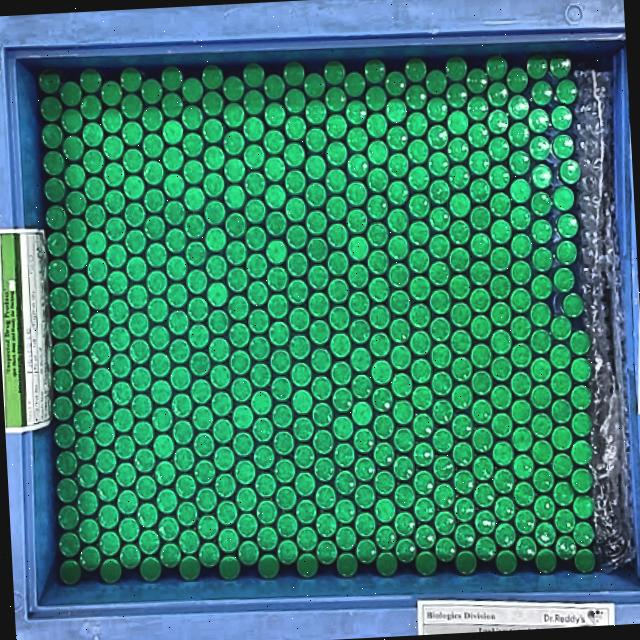vial: (119, 66, 142, 92), (258, 554, 280, 580), (58, 532, 80, 558), (496, 550, 518, 576), (558, 160, 581, 184), (101, 558, 122, 584), (376, 552, 397, 578), (241, 62, 264, 85), (37, 70, 59, 94), (184, 160, 206, 184), (98, 505, 120, 529), (140, 558, 162, 582), (59, 560, 81, 584), (456, 550, 478, 574), (531, 82, 553, 106), (58, 505, 79, 530), (334, 444, 355, 469), (405, 56, 426, 81), (42, 124, 62, 150), (288, 252, 308, 278), (72, 382, 92, 408), (218, 528, 238, 554), (174, 446, 194, 472), (57, 478, 77, 504), (160, 543, 180, 569), (355, 456, 375, 482), (354, 428, 374, 454), (336, 470, 356, 496), (472, 398, 492, 424), (388, 208, 408, 234), (409, 220, 429, 246), (40, 98, 62, 121), (296, 528, 318, 551), (364, 61, 386, 84), (530, 136, 552, 159), (284, 62, 305, 86), (185, 214, 206, 238), (84, 150, 105, 174), (235, 460, 256, 484), (277, 486, 298, 510), (515, 510, 536, 534), (532, 276, 553, 300), (470, 262, 491, 286), (532, 219, 553, 243), (286, 89, 306, 114), (305, 73, 325, 98), (207, 255, 227, 280), (178, 502, 198, 527), (194, 432, 214, 457), (255, 445, 275, 470), (276, 459, 296, 484), (139, 531, 159, 556), (572, 469, 592, 494), (429, 152, 449, 177), (450, 165, 470, 190), (554, 186, 574, 211), (508, 94, 528, 119), (366, 86, 386, 111), (189, 324, 208, 350), (375, 470, 394, 496), (356, 484, 375, 510), (80, 70, 102, 92), (270, 351, 292, 373), (351, 349, 373, 371), (327, 197, 348, 220), (43, 152, 64, 175), (371, 361, 392, 384), (349, 321, 370, 344), (204, 146, 224, 170), (204, 120, 224, 144), (223, 104, 243, 128), (244, 118, 264, 142), (284, 143, 304, 167), (265, 76, 285, 100), (328, 116, 348, 140), (123, 149, 143, 173), (48, 234, 68, 258), (288, 280, 308, 304), (310, 294, 330, 318), (308, 238, 328, 262), (229, 296, 249, 320), (148, 298, 168, 322), (89, 286, 109, 310), (48, 287, 68, 311), (90, 314, 110, 338), (110, 328, 130, 352), (290, 307, 310, 331), (76, 436, 96, 460), (96, 450, 116, 474), (197, 488, 217, 512), (299, 554, 319, 578), (220, 556, 240, 580), (200, 542, 220, 566), (158, 517, 178, 541), (78, 464, 98, 488), (56, 452, 76, 476), (274, 431, 294, 455), (80, 520, 100, 544), (476, 511, 496, 535), (496, 524, 516, 548), (436, 512, 456, 536), (314, 458, 334, 482), (396, 538, 416, 562), (376, 526, 396, 550), (576, 548, 596, 572), (394, 428, 414, 452), (492, 414, 512, 438), (392, 374, 412, 398), (369, 278, 389, 302), (387, 126, 407, 150), (409, 139, 429, 163), (471, 178, 491, 202), (532, 165, 552, 189), (428, 126, 448, 150), (488, 54, 508, 78), (558, 80, 578, 104), (488, 110, 508, 134), (468, 124, 488, 148), (329, 251, 348, 276), (119, 518, 138, 543), (573, 413, 592, 438), (552, 426, 571, 451), (515, 482, 534, 507), (468, 96, 487, 121), (54, 368, 72, 394), (356, 512, 374, 538), (228, 270, 249, 292), (172, 422, 193, 444), (434, 484, 455, 506), (574, 524, 595, 546), (535, 524, 556, 546), (389, 292, 410, 314), (558, 216, 579, 238), (557, 242, 578, 264), (551, 55, 572, 77), (554, 136, 575, 158), (81, 95, 101, 118), (328, 224, 348, 247), (307, 213, 327, 236), (286, 171, 306, 194), (244, 91, 264, 114), (328, 142, 348, 165), (306, 101, 326, 124), (326, 89, 346, 112), (62, 110, 82, 133), (144, 162, 164, 185), (164, 200, 184, 223), (125, 176, 145, 199), (64, 165, 84, 188), (105, 191, 125, 214), (126, 230, 146, 253), (46, 207, 66, 230), (106, 245, 126, 268), (190, 353, 210, 376), (210, 339, 230, 362), (230, 352, 250, 375), (332, 362, 352, 385), (252, 390, 272, 413), (192, 381, 212, 404), (253, 419, 273, 442), (50, 316, 70, 339), (111, 354, 131, 377), (195, 461, 215, 484), (181, 557, 201, 580), (314, 431, 334, 454), (394, 456, 414, 479), (538, 550, 558, 573), (396, 513, 416, 536), (416, 553, 436, 576), (534, 468, 554, 491), (454, 471, 474, 494), (373, 389, 393, 412), (451, 331, 471, 354), (391, 346, 411, 369), (564, 294, 584, 317), (348, 238, 368, 261), (430, 180, 450, 203), (532, 192, 552, 215), (470, 151, 490, 174), (552, 107, 572, 130), (510, 122, 530, 145), (448, 85, 468, 108), (426, 98, 446, 121), (406, 85, 426, 108), (266, 186, 285, 210), (163, 94, 182, 118), (224, 77, 243, 101), (83, 122, 102, 146), (103, 136, 122, 160), (207, 228, 226, 252), (45, 178, 64, 202), (147, 244, 166, 268), (167, 256, 186, 280), (227, 242, 246, 266), (329, 280, 348, 304), (109, 271, 128, 295), (189, 298, 208, 322), (48, 261, 67, 285), (171, 367, 190, 391), (212, 392, 231, 416), (172, 395, 191, 419), (119, 490, 138, 514), (256, 473, 275, 497), (297, 500, 316, 524), (121, 544, 140, 568), (101, 532, 120, 556), (556, 538, 575, 562), (553, 454, 572, 478), (390, 319, 409, 343), (353, 375, 372, 399), (389, 262, 408, 286), (367, 196, 386, 220), (430, 234, 449, 258), (492, 220, 511, 244), (348, 128, 367, 152), (449, 138, 468, 162), (427, 70, 446, 94), (489, 137, 508, 161), (510, 150, 529, 174), (272, 376, 290, 401), (240, 540, 258, 565), (180, 529, 198, 554), (79, 492, 97, 517), (472, 429, 493, 450), (471, 317, 492, 338), (408, 196, 429, 217), (162, 68, 184, 88), (122, 122, 142, 144), (246, 200, 266, 222), (286, 200, 306, 222), (184, 108, 204, 130), (286, 117, 306, 139), (306, 129, 326, 151), (63, 138, 83, 160), (166, 230, 186, 252), (330, 308, 350, 330), (308, 266, 328, 288), (208, 284, 228, 306), (150, 354, 170, 376), (230, 324, 250, 346), (270, 324, 290, 346), (310, 322, 330, 344), (232, 406, 252, 428), (70, 328, 90, 350), (130, 368, 150, 390), (152, 382, 172, 404), (194, 407, 214, 429), (52, 344, 72, 366), (54, 398, 74, 420), (94, 424, 114, 446), (54, 426, 74, 448), (116, 464, 136, 486), (176, 474, 196, 496), (258, 528, 278, 550), (198, 516, 218, 538), (138, 504, 158, 526), (216, 474, 236, 496), (257, 502, 277, 524), (80, 548, 100, 570), (414, 471, 434, 493), (516, 537, 536, 559), (456, 524, 476, 546), (356, 541, 376, 563), (555, 512, 575, 534), (574, 497, 594, 519), (552, 400, 572, 422), (512, 428, 532, 450), (494, 498, 514, 520), (473, 458, 493, 480), (453, 415, 473, 437), (434, 458, 454, 480), (571, 359, 591, 381), (492, 332, 512, 354), (471, 346, 491, 368), (491, 386, 511, 408), (411, 332, 431, 354), (570, 332, 590, 354), (470, 290, 490, 312), (410, 278, 430, 300), (370, 307, 390, 329), (512, 264, 532, 286), (368, 170, 388, 192), (430, 208, 450, 230), (512, 236, 532, 258), (367, 114, 387, 136), (511, 180, 531, 202), (408, 114, 428, 136), (447, 58, 467, 80), (508, 69, 528, 91), (530, 110, 550, 132), (245, 145, 264, 168), (165, 175, 184, 198), (227, 215, 246, 238), (247, 227, 266, 250), (145, 189, 164, 212), (105, 164, 124, 187), (86, 204, 105, 227), (87, 230, 106, 253), (67, 219, 86, 242), (171, 339, 190, 362), (293, 391, 312, 414), (313, 403, 332, 426), (115, 436, 134, 459), (137, 476, 156, 499), (296, 473, 315, 496), (374, 444, 393, 467), (476, 538, 495, 561), (436, 538, 455, 561), (412, 359, 431, 382), (347, 182, 366, 205), (472, 234, 491, 257), (409, 167, 428, 190), (450, 195, 469, 218), (491, 192, 510, 215), (386, 72, 405, 95), (388, 99, 407, 122), (265, 158, 283, 182), (307, 183, 325, 207), (186, 188, 204, 212), (66, 191, 84, 215), (88, 258, 106, 282), (210, 310, 228, 334), (170, 312, 188, 336), (110, 300, 128, 324), (270, 294, 288, 318), (154, 434, 172, 458), (98, 478, 116, 502), (278, 514, 296, 538), (396, 484, 414, 508), (376, 500, 394, 524), (416, 526, 434, 550), (339, 553, 357, 577), (536, 496, 554, 520), (512, 373, 530, 397), (371, 334, 389, 358), (492, 274, 510, 298), (346, 74, 364, 98), (184, 134, 204, 155), (162, 122, 182, 143), (142, 81, 162, 102), (186, 244, 206, 265), (187, 271, 207, 292), (273, 405, 293, 426), (312, 378, 332, 399), (414, 500, 435, 520), (572, 442, 592, 463), (492, 443, 512, 464), (413, 444, 433, 465), (352, 404, 372, 425), (412, 387, 432, 408), (452, 387, 472, 408), (531, 388, 552, 408), (550, 347, 570, 368), (410, 306, 430, 327), (368, 224, 388, 245), (408, 251, 428, 272), (450, 277, 470, 298), (164, 148, 183, 170), (288, 226, 307, 248), (246, 173, 265, 195), (225, 160, 244, 182), (122, 96, 141, 118), (102, 82, 121, 104), (307, 156, 326, 178), (327, 170, 346, 192), (265, 104, 284, 126), (86, 178, 105, 200), (70, 301, 89, 323), (331, 335, 350, 357), (333, 389, 352, 411), (334, 417, 353, 439), (72, 356, 91, 378), (132, 396, 151, 418), (94, 396, 113, 418), (135, 449, 154, 471), (157, 462, 176, 484), (214, 448, 233, 470), (318, 514, 337, 536), (533, 414, 552, 436), (514, 455, 533, 477), (414, 415, 433, 437), (451, 304, 470, 326), (472, 372, 491, 394), (511, 318, 530, 340), (555, 268, 574, 290), (430, 262, 449, 284), (431, 292, 450, 314), (369, 252, 388, 274), (350, 294, 369, 316), (534, 248, 553, 270), (389, 154, 408, 176), (471, 207, 490, 229), (491, 166, 510, 188), (346, 102, 365, 124), (488, 84, 507, 106), (449, 112, 468, 134), (126, 203, 144, 226), (69, 245, 87, 268), (148, 272, 166, 295), (248, 254, 266, 277), (168, 284, 186, 307), (70, 273, 88, 296), (93, 369, 111, 392), (114, 409, 132, 432), (238, 488, 256, 511), (534, 440, 552, 463), (512, 346, 530, 369), (491, 302, 509, 325), (512, 291, 530, 314), (451, 248, 469, 271), (492, 247, 509, 271), (326, 63, 346, 83), (264, 132, 284, 152), (74, 412, 94, 432), (474, 486, 494, 506), (434, 400, 454, 420), (450, 222, 470, 242), (368, 142, 388, 162), (203, 94, 222, 115), (146, 217, 165, 238), (292, 364, 311, 385), (157, 491, 176, 512), (434, 431, 453, 452), (512, 401, 531, 422), (531, 361, 550, 382), (389, 182, 408, 203), (468, 70, 487, 91), (202, 66, 220, 88), (226, 186, 244, 208), (144, 108, 162, 130), (184, 80, 202, 102), (206, 202, 224, 224), (106, 218, 124, 240), (128, 259, 146, 281), (268, 242, 286, 264), (269, 268, 287, 290), (250, 310, 268, 332), (128, 286, 146, 308), (131, 341, 149, 363), (249, 282, 267, 304), (292, 336, 310, 358), (312, 350, 330, 372), (252, 364, 270, 386), (294, 416, 312, 438), (214, 420, 232, 442), (112, 383, 130, 405), (218, 502, 236, 524), (238, 514, 256, 536), (296, 446, 314, 468), (456, 499, 474, 521), (318, 542, 336, 564), (554, 484, 572, 506), (454, 442, 472, 464), (572, 386, 590, 408), (552, 373, 570, 395), (492, 358, 510, 380), (348, 211, 366, 233), (390, 237, 408, 259), (350, 266, 368, 288), (532, 304, 550, 326), (347, 156, 365, 178), (512, 206, 530, 228), (528, 55, 546, 77), (206, 174, 223, 197), (102, 110, 121, 130), (335, 502, 354, 522), (494, 472, 513, 492), (394, 403, 414, 422), (144, 136, 162, 157), (130, 313, 148, 334), (150, 327, 168, 348), (154, 408, 172, 429), (134, 423, 152, 444), (434, 373, 452, 394), (552, 318, 570, 339), (267, 212, 284, 234), (225, 132, 242, 154), (318, 488, 335, 510), (431, 319, 448, 341), (280, 541, 296, 564), (212, 366, 230, 386), (251, 338, 269, 358), (232, 379, 250, 399), (92, 342, 110, 362), (235, 434, 253, 454), (374, 416, 392, 436), (532, 333, 550, 353), (452, 360, 470, 380), (432, 347, 449, 368), (62, 85, 78, 107), (338, 526, 354, 548)
